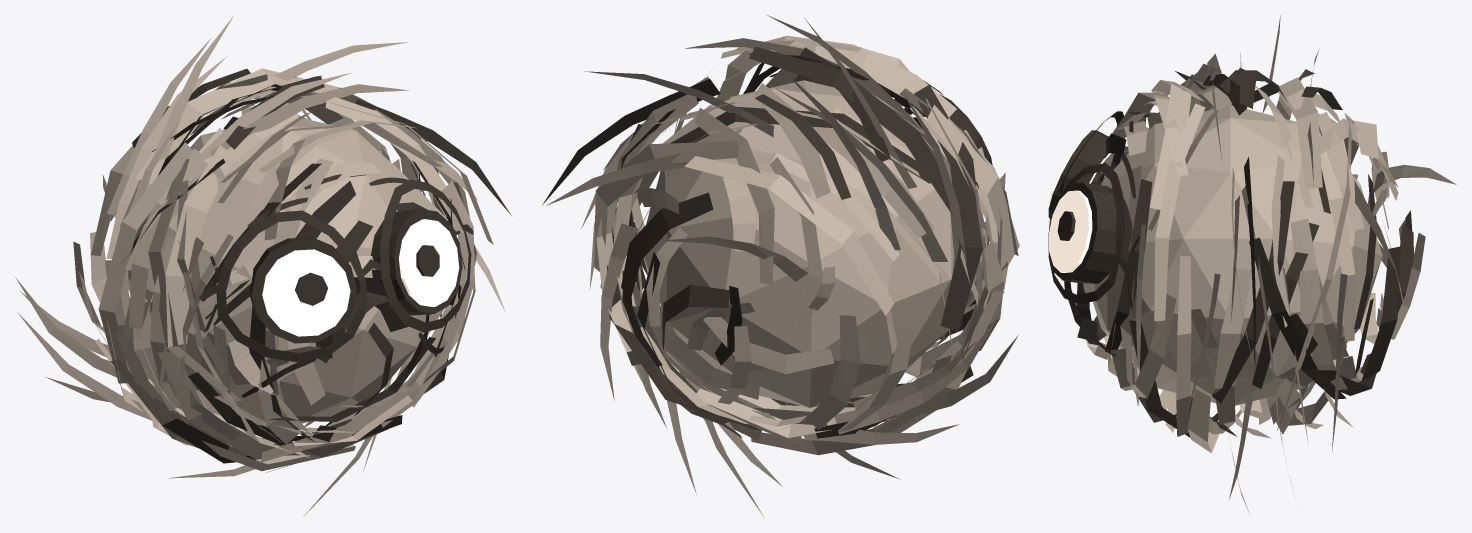
Rendered from bolita-rica-mayor.glb.
3 views of the same model, side by side, from view 1: azimuth 30°, elevation 25°; view 2: azimuth 150°, elevation 25°; view 3: azimuth 270°, elevation 25° (orthographic). The views are drawn at different scales.
Visible parts, largest first — view 1: bolita-cuerpo; view 2: bolita-cuerpo; view 3: bolita-cuerpo.
Boxes of the visible parts, <box> form: bolita-cuerpo: <box>15,14,511,516</box>; bolita-cuerpo: <box>542,15,1019,516</box>; bolita-cuerpo: <box>1048,15,1456,514</box>.
Size of the model in its own units: 0.4477 by 0.4538 by 0.3495.
